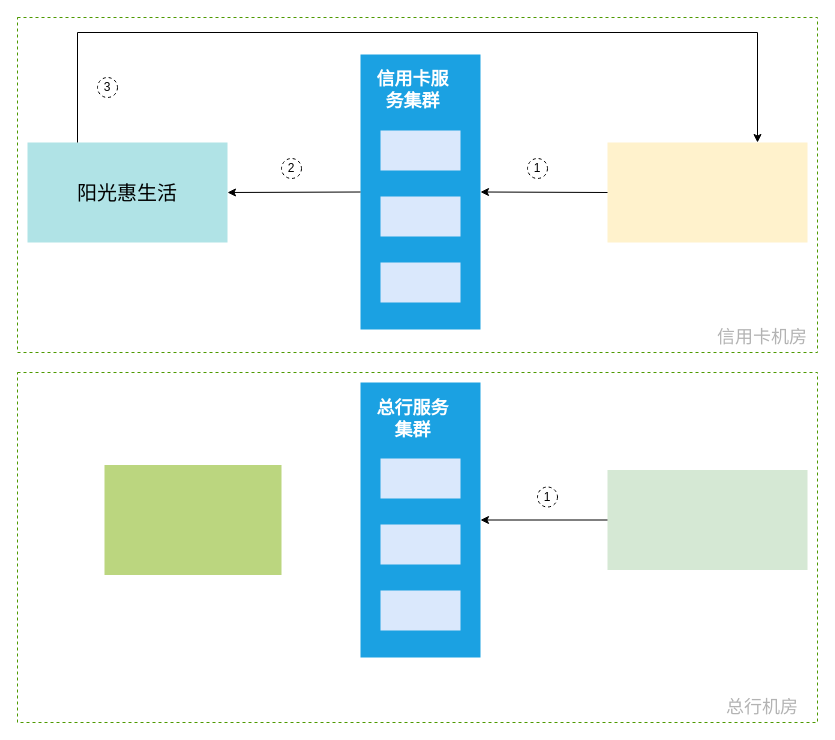
Some shapes in this 835 by 740 pixel diagram are drawn without their labels. Each missing label, with the centre of its shape:
Cluster House: the point at 192,519
个贷推荐: the point at 707,520
信用卡消费: the point at 707,192
